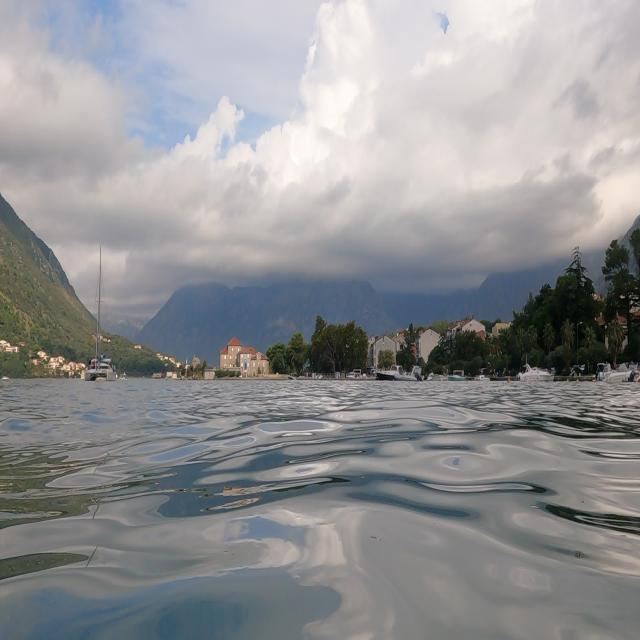boat: (80, 232, 128, 400)
